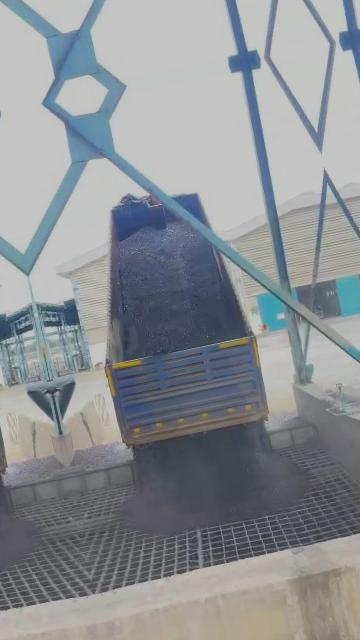gravel: (72, 425, 306, 536), (118, 221, 244, 358)
